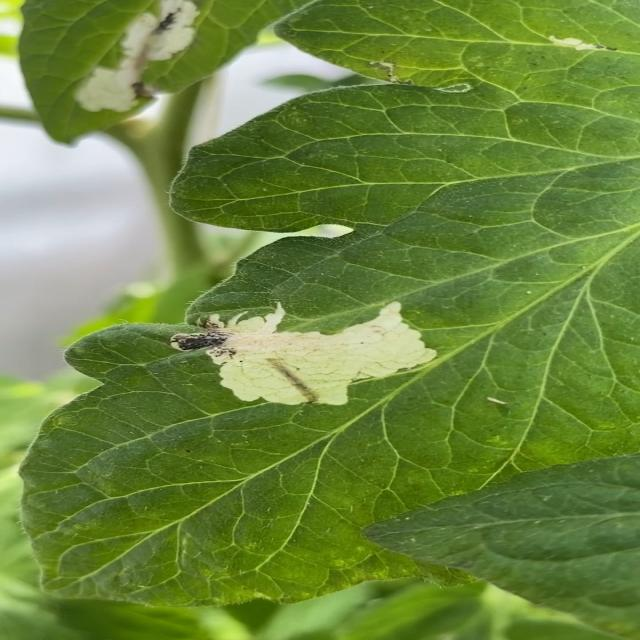Larvae: (267, 359, 318, 404)
